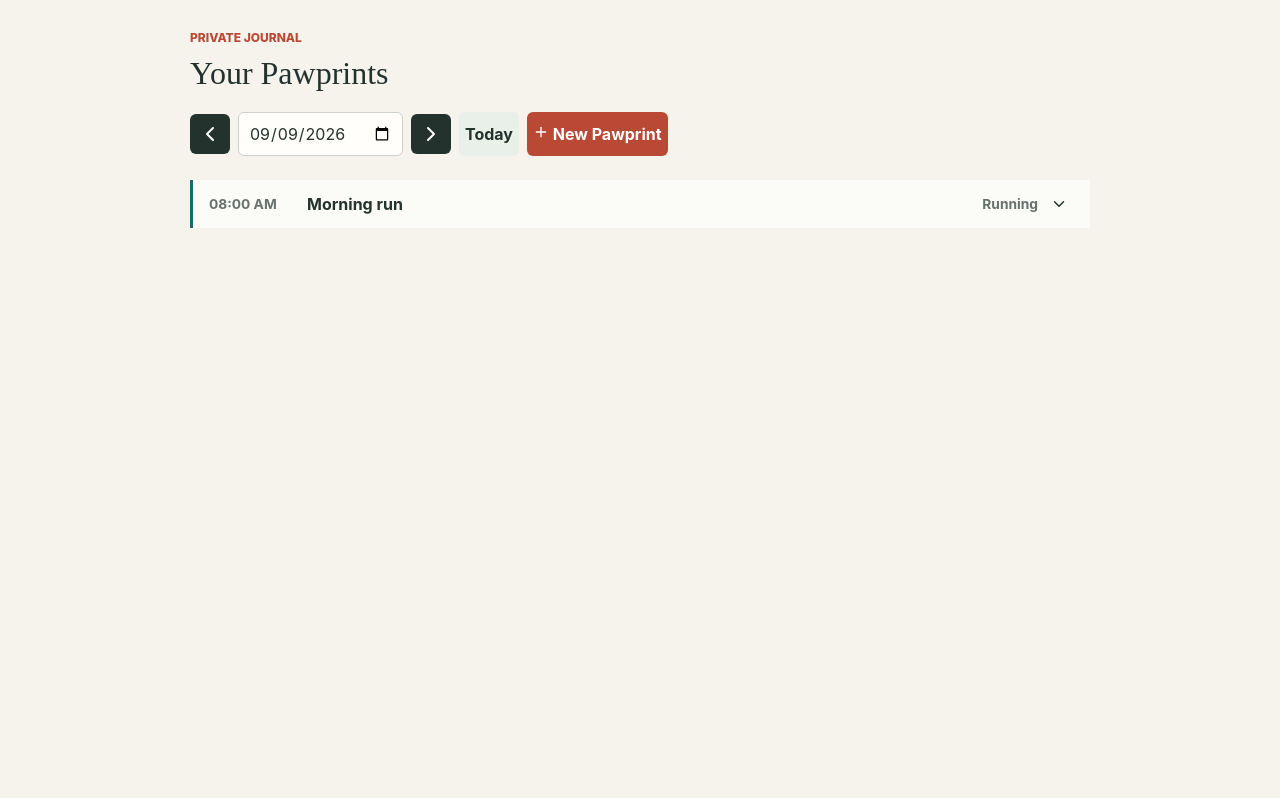
Scenario: TimelinePage › reloads the latest event into the form after a stale edit conflict
The image size is (1280, 798).
Expected: the text "Morning run" is shown, [307,194,403,214]
Click the button "08:00 AM Morning run Running". click: (243, 204)
box: [193,180,1090,228]
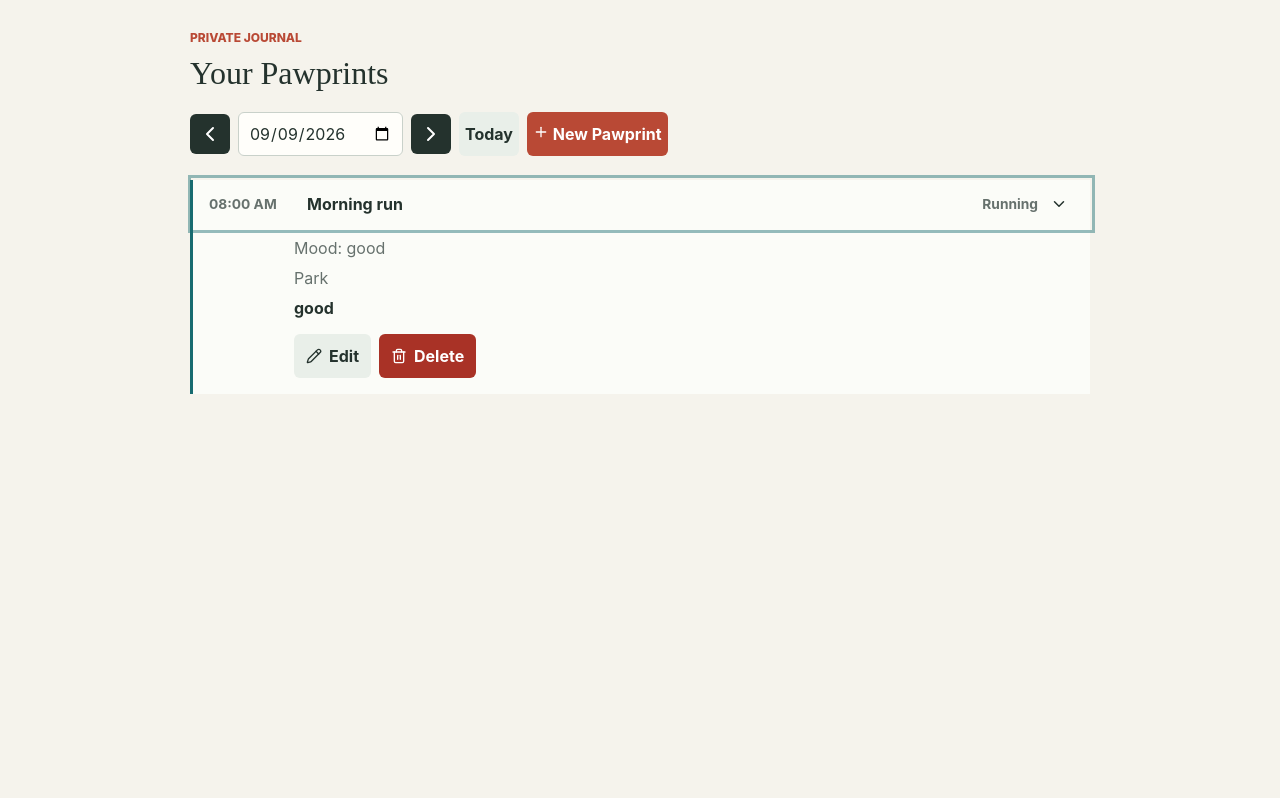
Click the button with aria-label "Edit Morning run". click: (332, 356)
box: [294,334,371,378]
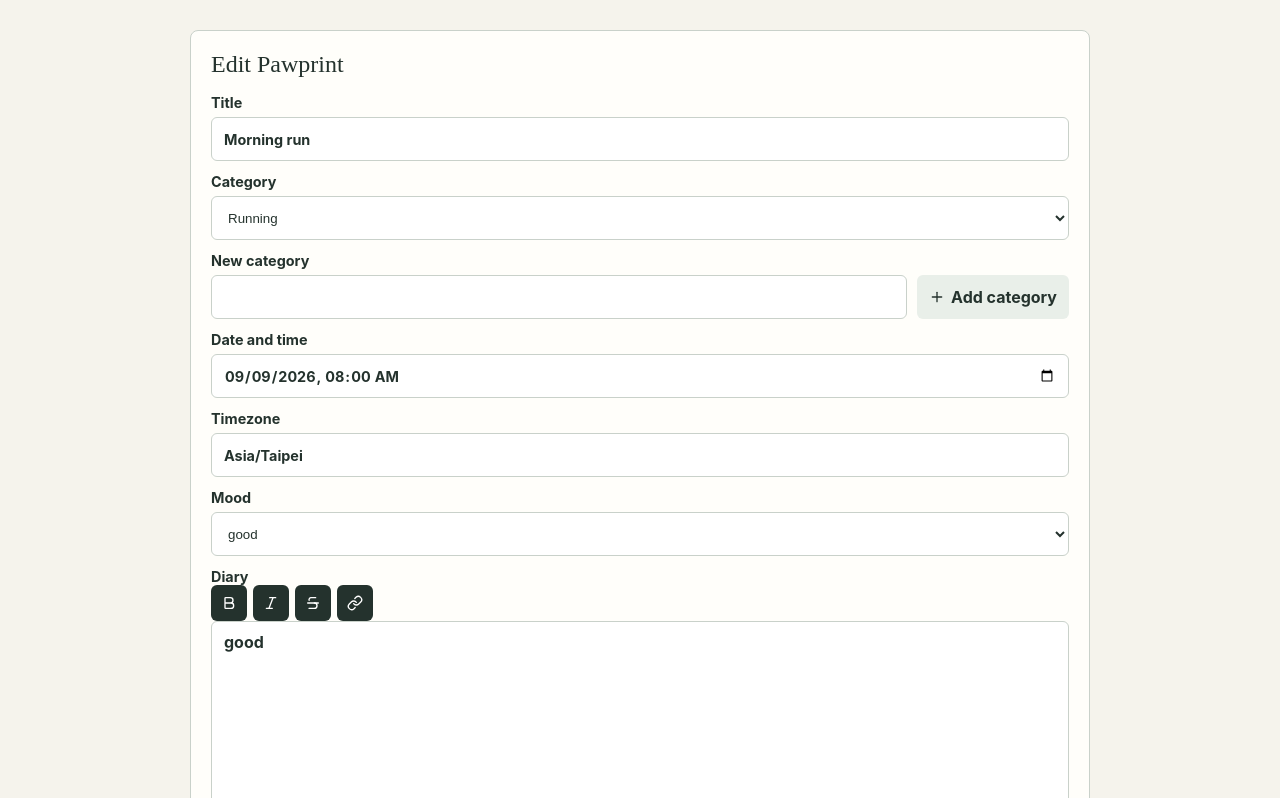
Replace the text in the field labelled "Title" with "My edit". click: (640, 139)
box: [211,117,1069,161]
(page scrolled)
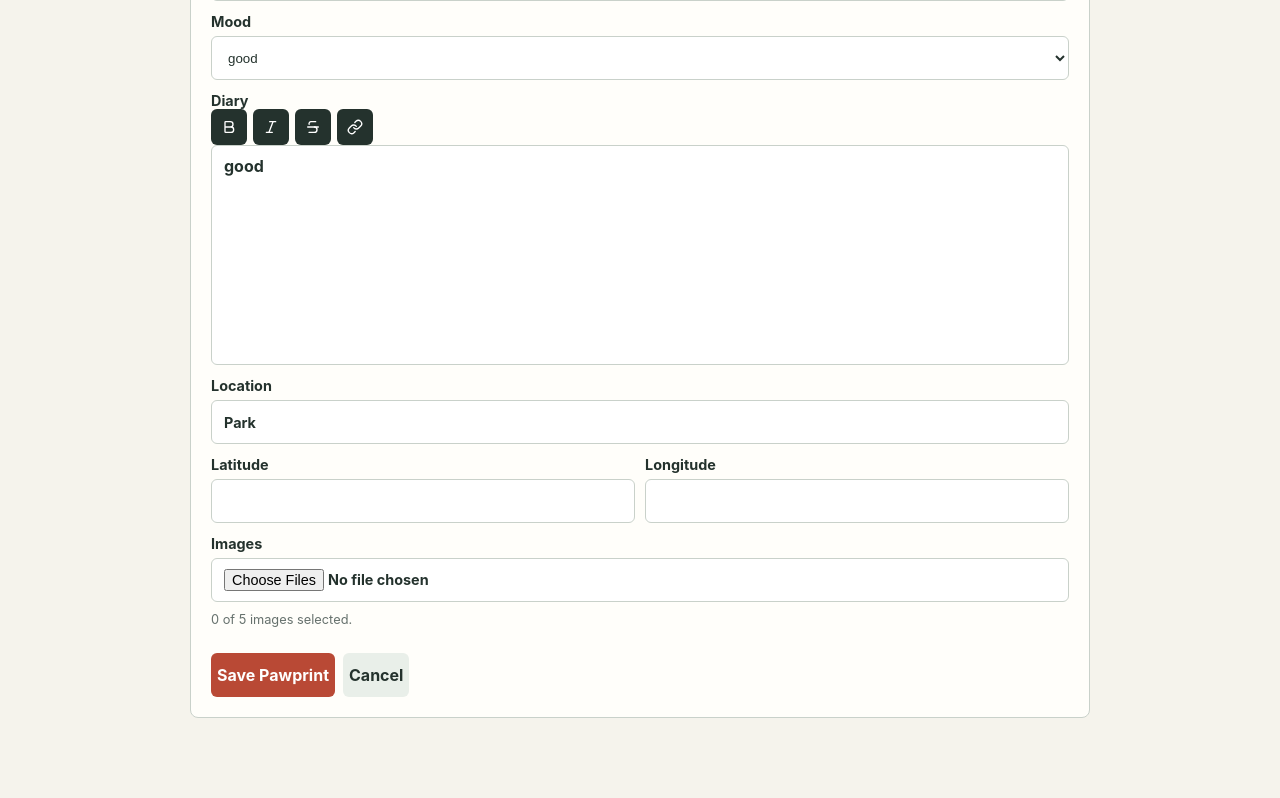
Click the button "Save Pawprint". click: (273, 675)
box: [211,653,335,697]
(page scrolled)
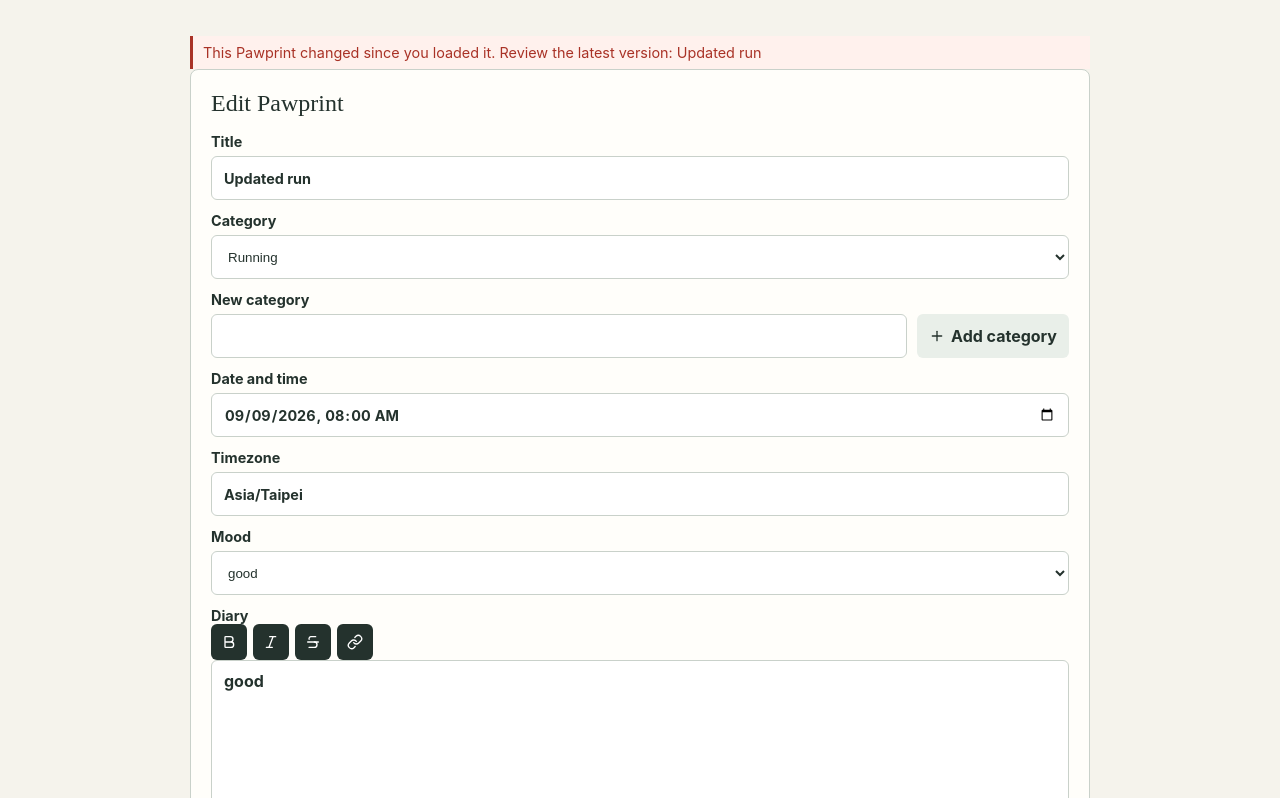
Expected: the message shows "changed since you loaded it", [203,44,677,61]
Expected: the field labelled "Title" holds "Updated run", [211,156,1069,200]
